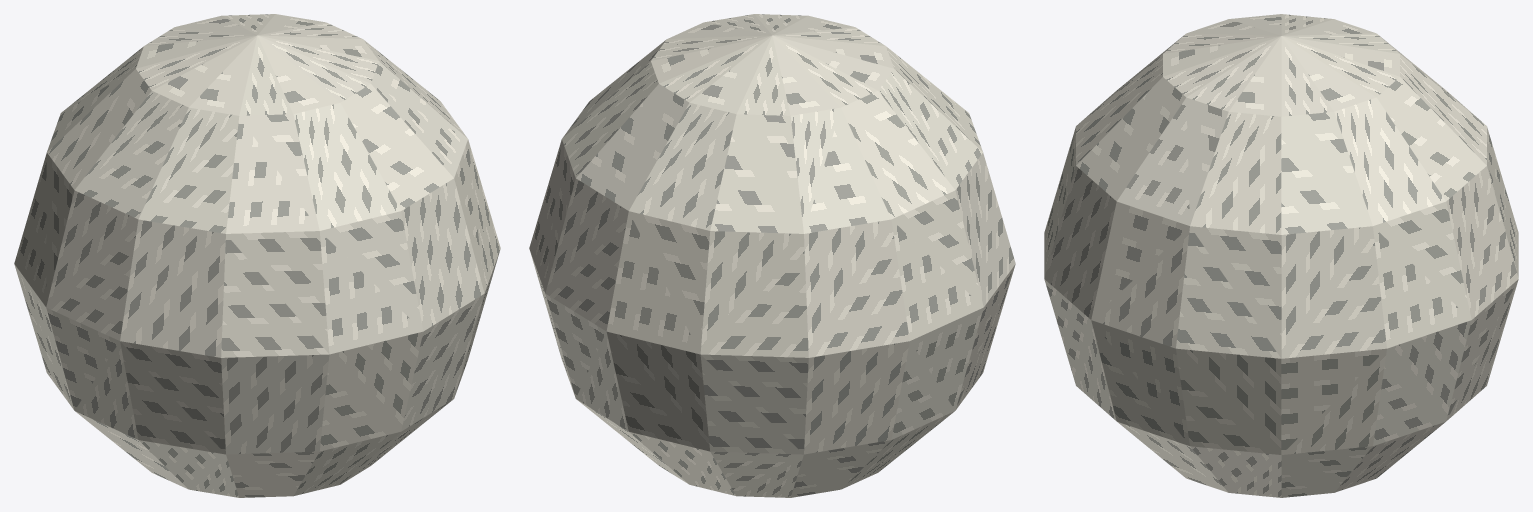
Rendered from golf_ball.glb.
3 renders of one model, left to right at view 1: azimuth 30°, elevation 25°; view 2: azimuth 150°, elevation 25°; view 3: azimuth 270°, elevation 25°, orthographic.
Parts seen in each view (by area): view 1: block_ball body; view 2: block_ball body; view 3: block_ball body.
Part boxes in pixels (box(x1,y1,x2,y2)): block_ball body: box(14, 14, 500, 497); block_ball body: box(529, 14, 1015, 497); block_ball body: box(1044, 14, 1518, 497).
Size of the model in its own units: 0.043 by 0.0429 by 0.0419.
Materials: 1 (1 with a texture image).
